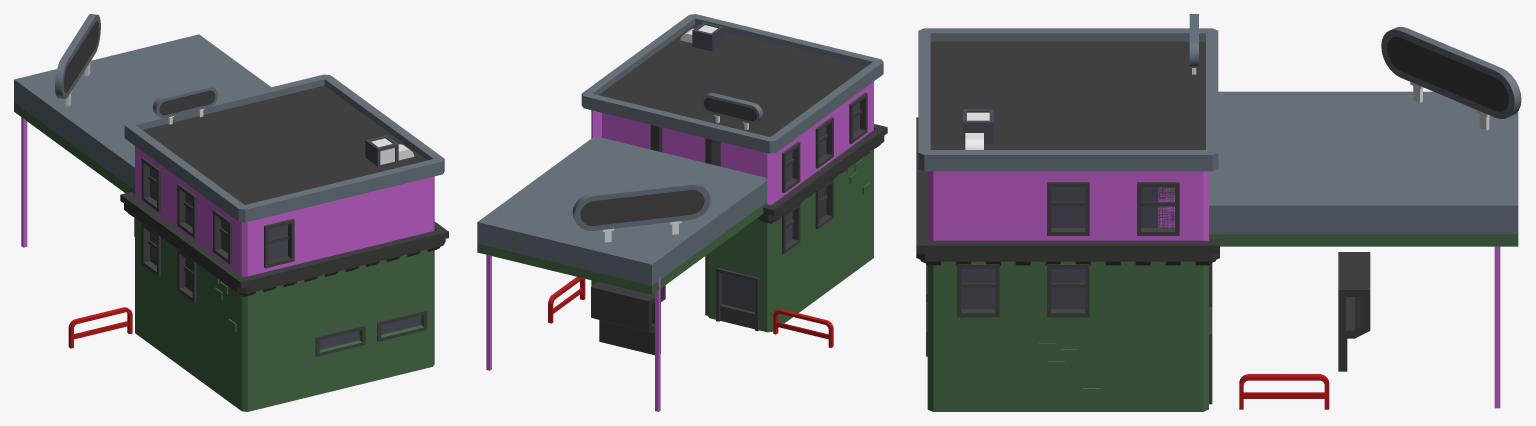
Rendered from gas_station_simple.model.fbx.
3 renders of one model, left to right at view 1: azimuth 30°, elevation 25°; view 2: azimuth 150°, elevation 25°; view 3: azimuth 270°, elevation 25°, orthographic. The views are drawn at different scales.
Visible parts, largest first — view 1: (0.0, 0.0, 0.0) (×36), block_low_0, detail_signRounded_5, structure_pole_2; view 2: (0.0, 0.0, 0.0) (×28), block_low_0, detail_signRounded_5, wing_intake_4, block_half_1, structure_pole_2, structure_pole_3; view 3: (0.0, 0.0, 0.0) (×26), block_low_0, detail_signRounded_5, wing_intake_4, structure_pole_3, block_half_1.
Part boxes in pixels (x1,y1,x2,y2): (0.0, 0.0, 0.0) (×36): [68, 74, 444, 411]; block_low_0: [14, 34, 270, 193]; detail_signRounded_5: [55, 14, 100, 106]; structure_pole_2: [21, 105, 27, 247]; (0.0, 0.0, 0.0) (×28): [548, 14, 883, 347]; block_low_0: [477, 137, 767, 294]; detail_signRounded_5: [572, 182, 710, 242]; wing_intake_4: [591, 282, 660, 355]; block_half_1: [602, 113, 765, 177]; structure_pole_2: [655, 277, 660, 411]; structure_pole_3: [486, 254, 491, 370]; (0.0, 0.0, 0.0) (×26): [918, 14, 1329, 411]; block_low_0: [1209, 91, 1518, 246]; detail_signRounded_5: [1381, 26, 1521, 130]; wing_intake_4: [1338, 252, 1370, 371]; structure_pole_3: [1494, 246, 1500, 408]; block_half_1: [1158, 187, 1174, 227].
Bounding box in the file's own units: 42.88 × 36 × 67.25.
